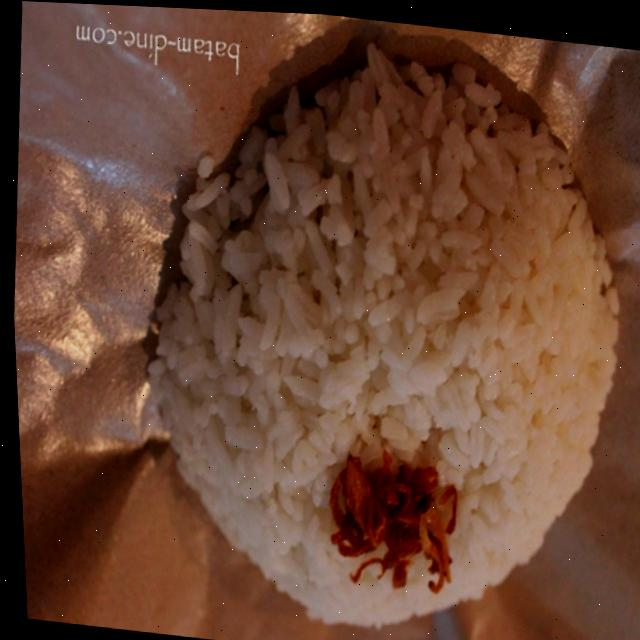米饭主食: (114, 25, 640, 640)
